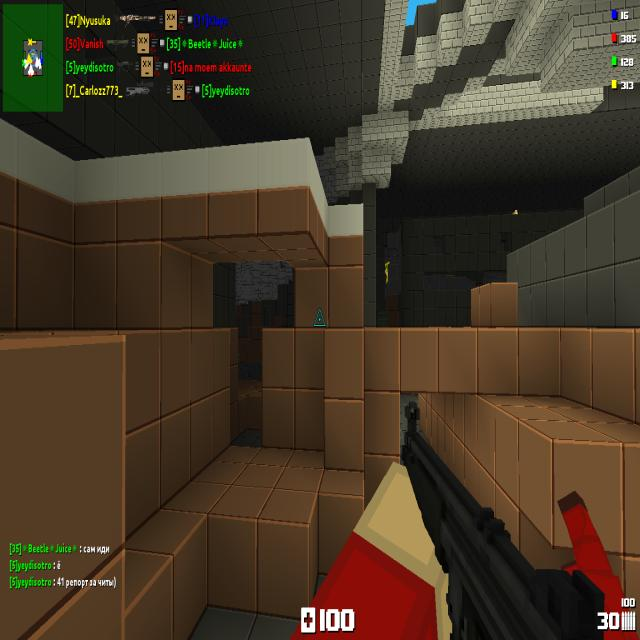enemy: (385, 262, 390, 284), (511, 210, 518, 214)
